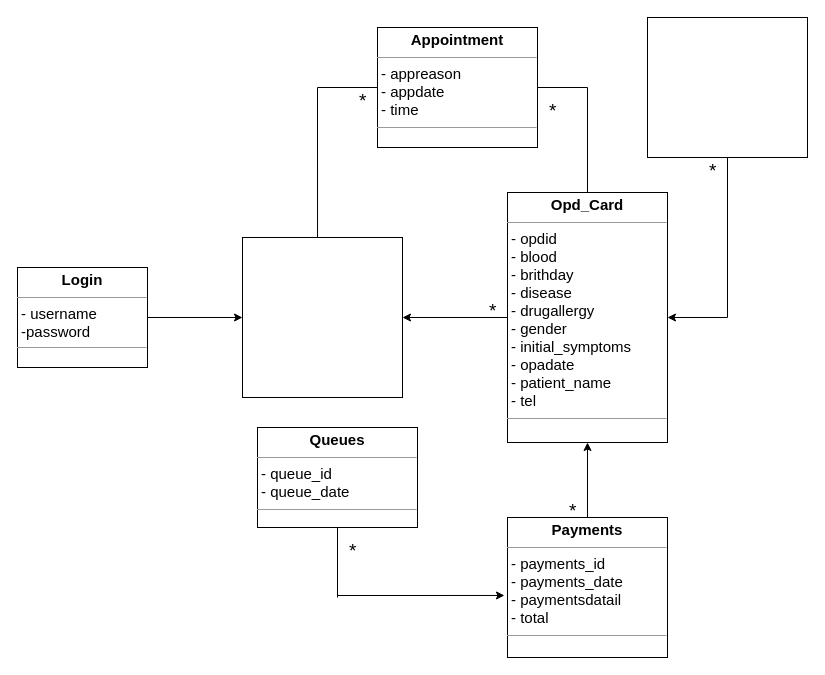
Some shapes in this 825 by 675 pixel diagram are drawn without their labels. Each missing label, with the centre of its shape:
Employee - emp_id - emp_name - gender - position - tel: the point at 322,317
Remedy - remedy_date - remedydetail - syndrome - time: the point at 727,87
